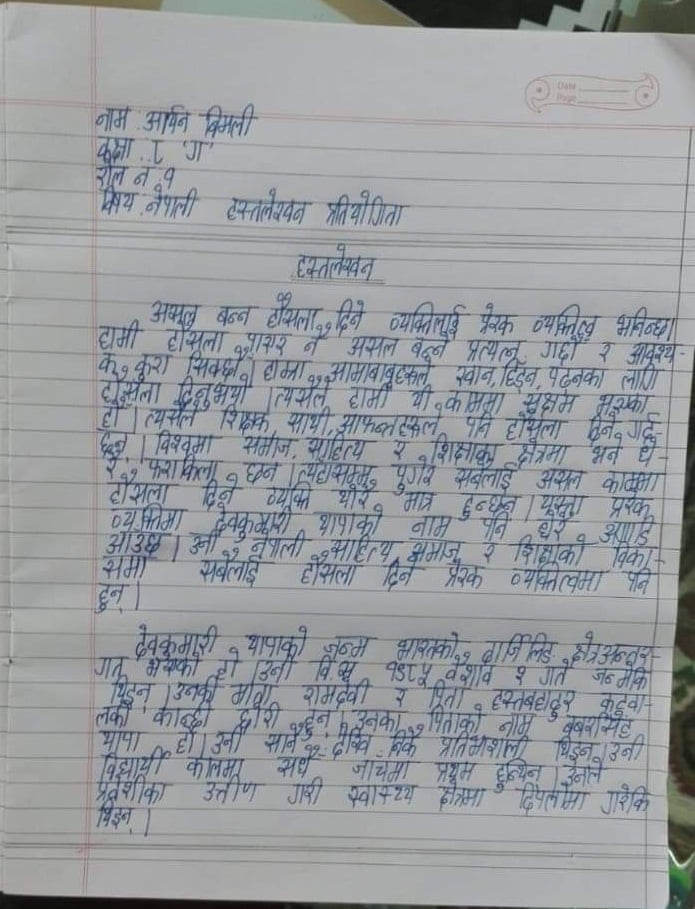text: (287, 242, 386, 283), (322, 188, 410, 233), (336, 403, 442, 439), (220, 186, 314, 226), (325, 354, 436, 387), (570, 629, 657, 670), (131, 621, 225, 658), (210, 499, 296, 539), (508, 560, 608, 594), (489, 683, 575, 721), (383, 298, 468, 336), (438, 729, 535, 762), (525, 300, 603, 340), (480, 630, 561, 668), (192, 548, 268, 587), (261, 287, 324, 332), (516, 781, 594, 816), (174, 375, 256, 408), (164, 317, 232, 356), (104, 470, 175, 507), (239, 625, 313, 660), (145, 451, 223, 484), (107, 501, 190, 532), (91, 775, 171, 807), (96, 371, 164, 408), (509, 535, 590, 566), (452, 457, 518, 495), (142, 181, 206, 220), (180, 346, 251, 381), (96, 746, 170, 779), (199, 102, 263, 140), (427, 434, 505, 465), (303, 431, 380, 462), (296, 456, 375, 486), (301, 676, 373, 708), (503, 408, 570, 442), (610, 304, 673, 340), (100, 525, 170, 557), (315, 504, 382, 537), (560, 710, 635, 739), (462, 332, 527, 365), (599, 464, 668, 495), (139, 100, 195, 138), (468, 299, 521, 339), (274, 374, 331, 411), (244, 528, 312, 559), (541, 361, 611, 391), (327, 533, 396, 563), (342, 782, 418, 809), (597, 781, 652, 818), (151, 427, 216, 458), (392, 631, 461, 660), (388, 455, 438, 495), (88, 317, 145, 352), (216, 401, 273, 436), (493, 753, 544, 792), (597, 515, 657, 548), (594, 661, 654, 694), (241, 322, 293, 360), (298, 557, 363, 587), (151, 700, 213, 731), (143, 399, 201, 432), (198, 775, 264, 804), (342, 329, 403, 360), (456, 487, 518, 517), (444, 387, 510, 415), (259, 479, 315, 512), (349, 755, 415, 783), (519, 388, 580, 418), (615, 360, 667, 395), (401, 538, 468, 565), (435, 780, 488, 814), (89, 128, 139, 164), (98, 552, 158, 582), (143, 649, 203, 679), (348, 380, 402, 413), (92, 799, 140, 836), (621, 338, 678, 369), (512, 435, 569, 466), (184, 751, 247, 779), (273, 745, 323, 780), (594, 691, 653, 720), (321, 630, 378, 660), (427, 703, 484, 733), (331, 722, 376, 760), (238, 431, 296, 460), (539, 335, 593, 366), (329, 295, 368, 337), (497, 357, 542, 393), (536, 486, 586, 518), (171, 675, 221, 707), (607, 486, 654, 520), (376, 556, 423, 590), (109, 675, 156, 709), (559, 755, 606, 789), (595, 389, 652, 417), (87, 580, 130, 617), (95, 181, 139, 217), (145, 297, 203, 324), (259, 356, 311, 386), (534, 464, 586, 494), (405, 330, 454, 361), (441, 561, 490, 592), (383, 659, 435, 688), (211, 298, 259, 329), (405, 511, 458, 539), (445, 659, 496, 688), (386, 724, 427, 760), (283, 405, 332, 435), (225, 679, 277, 707), (353, 704, 405, 732), (90, 103, 136, 134), (430, 677, 473, 710), (92, 151, 130, 188), (550, 735, 598, 764), (584, 435, 626, 468), (262, 724, 304, 757), (131, 351, 176, 381), (451, 360, 499, 388), (256, 652, 296, 685), (96, 728, 146, 754), (432, 757, 480, 784), (199, 475, 236, 510), (316, 655, 360, 684), (608, 734, 649, 765), (236, 703, 283, 730), (476, 510, 515, 542), (535, 510, 574, 542), (238, 457, 282, 485), (288, 776, 324, 810), (334, 483, 376, 512), (210, 725, 248, 757), (93, 427, 132, 458), (620, 566, 659, 596), (99, 397, 134, 430), (582, 411, 618, 443), (142, 130, 173, 167), (303, 322, 332, 361), (460, 409, 496, 440), (304, 703, 334, 740), (185, 530, 223, 558), (95, 702, 134, 729), (213, 644, 241, 681), (495, 713, 538, 737), (398, 487, 437, 513), (174, 723, 203, 757), (88, 654, 129, 678), (403, 384, 436, 413), (625, 416, 657, 443), (539, 659, 569, 686), (129, 161, 156, 188), (96, 350, 122, 378), (99, 451, 127, 477), (183, 135, 208, 164), (631, 443, 660, 468), (161, 161, 183, 193), (593, 338, 617, 367), (388, 683, 414, 709), (388, 438, 414, 463), (479, 539, 502, 567), (510, 664, 531, 687)
